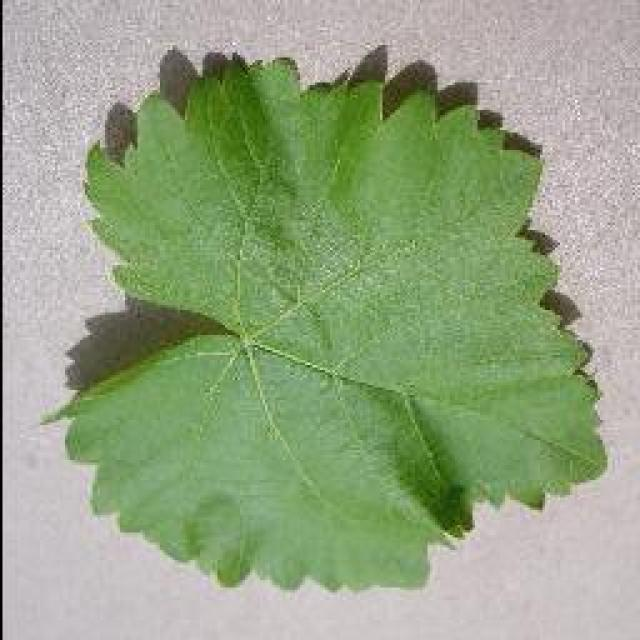Grape___healthy: (68, 60, 605, 588)
